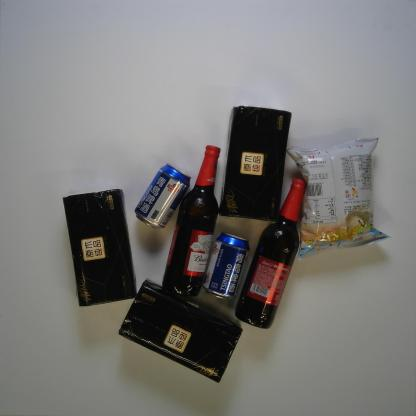Alcohol: (233, 176, 308, 331), (160, 144, 221, 298), (134, 163, 191, 230), (202, 232, 251, 301)
Puffed Food: (286, 136, 392, 259)
Tissue: (116, 277, 246, 384), (59, 186, 138, 309), (217, 105, 293, 224)
